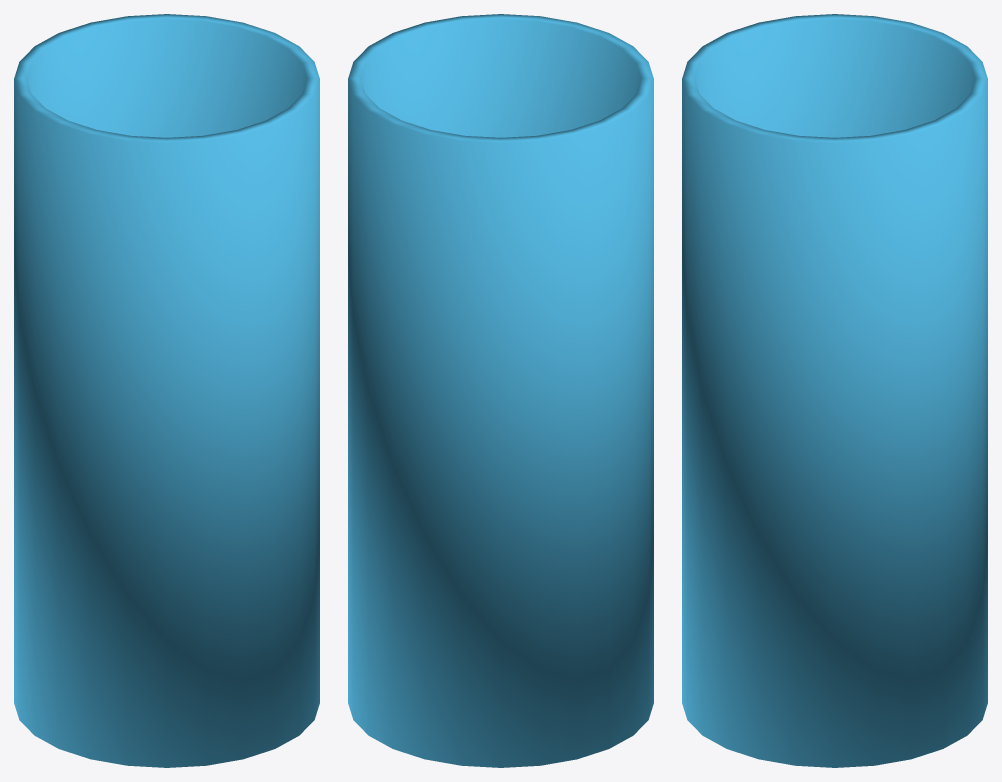
The model's file is Env_Pipe_200mm.fbx.
The picture shows the model from 3 angles, left to right: view 1: azimuth 30°, elevation 25°; view 2: azimuth 150°, elevation 25°; view 3: azimuth 270°, elevation 25°; orthographic projection.
Parts seen in each view (by area): view 1: Pipe_200mm; view 2: Pipe_200mm; view 3: Pipe_200mm.
Boxes of the visible parts, x1,y1,x2,y2 form: Pipe_200mm: (14,14,319,767); Pipe_200mm: (348,14,653,767); Pipe_200mm: (682,14,987,767).
Size of the model in its own units: 8.87 by 20 by 8.87.
